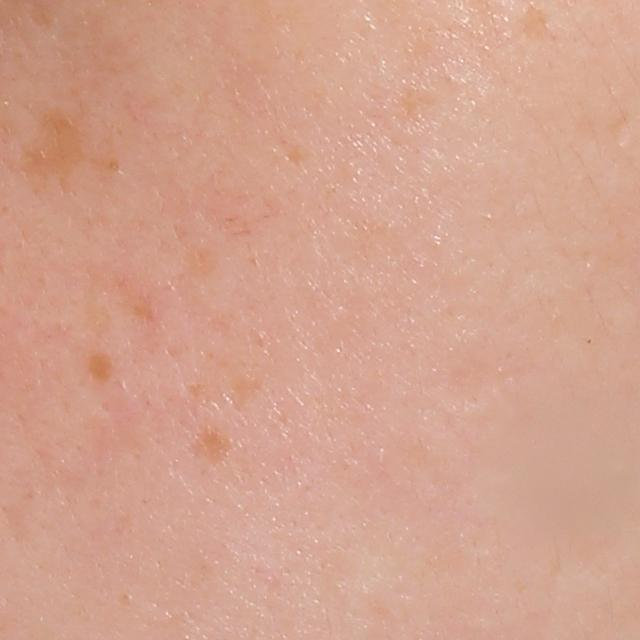melasma: (24, 110, 85, 184)
